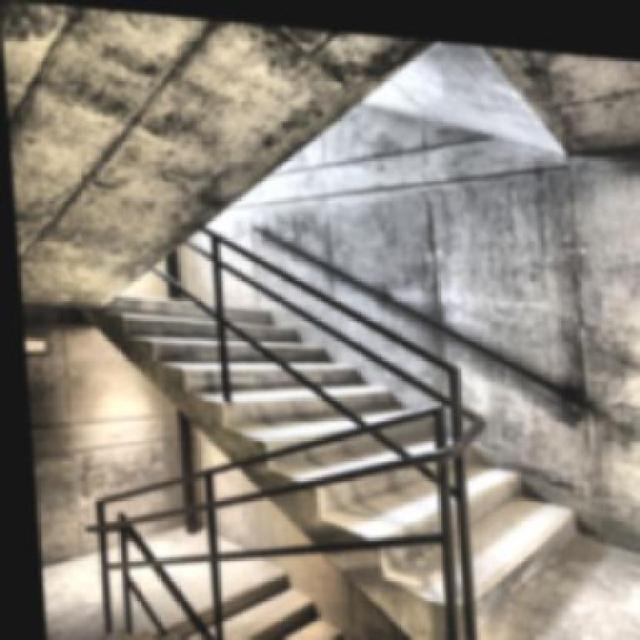stair: (96, 202, 598, 630)
